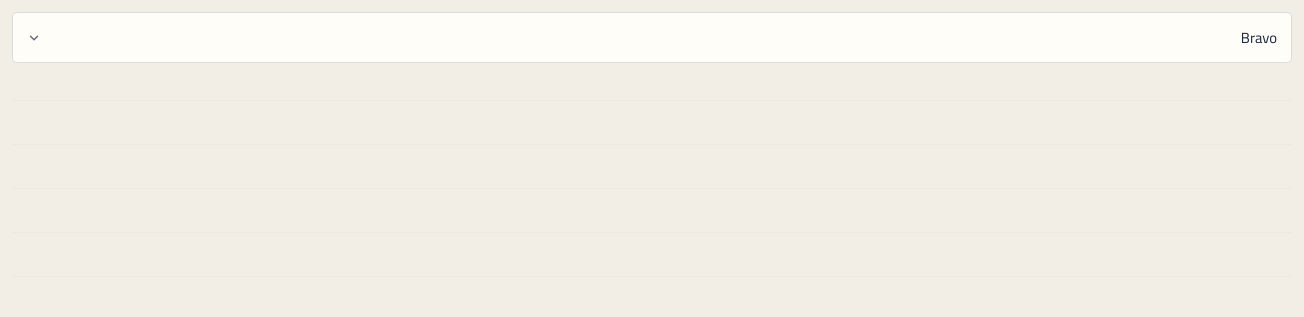
Test: Select — ARIA wiring › marks only the current value as selected
This screenshot has width=1304, height=317.
Click the dropdown named "Test select".
click(1259, 38)  # box [12,12,1292,63]
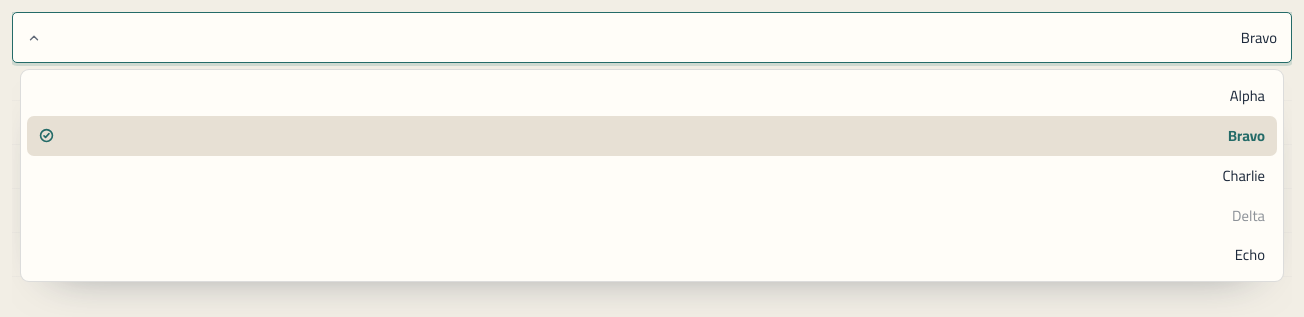
Expected: the option "Bravo" is shown, [27,116,1277,156]
